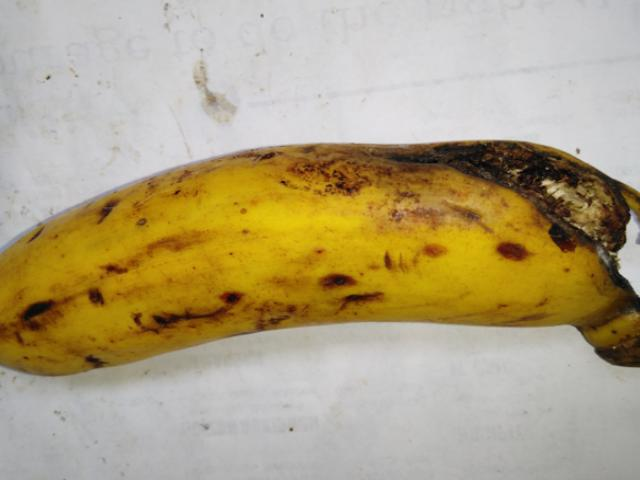ripe: (0, 130, 395, 401)
rotten: (336, 88, 639, 316)
